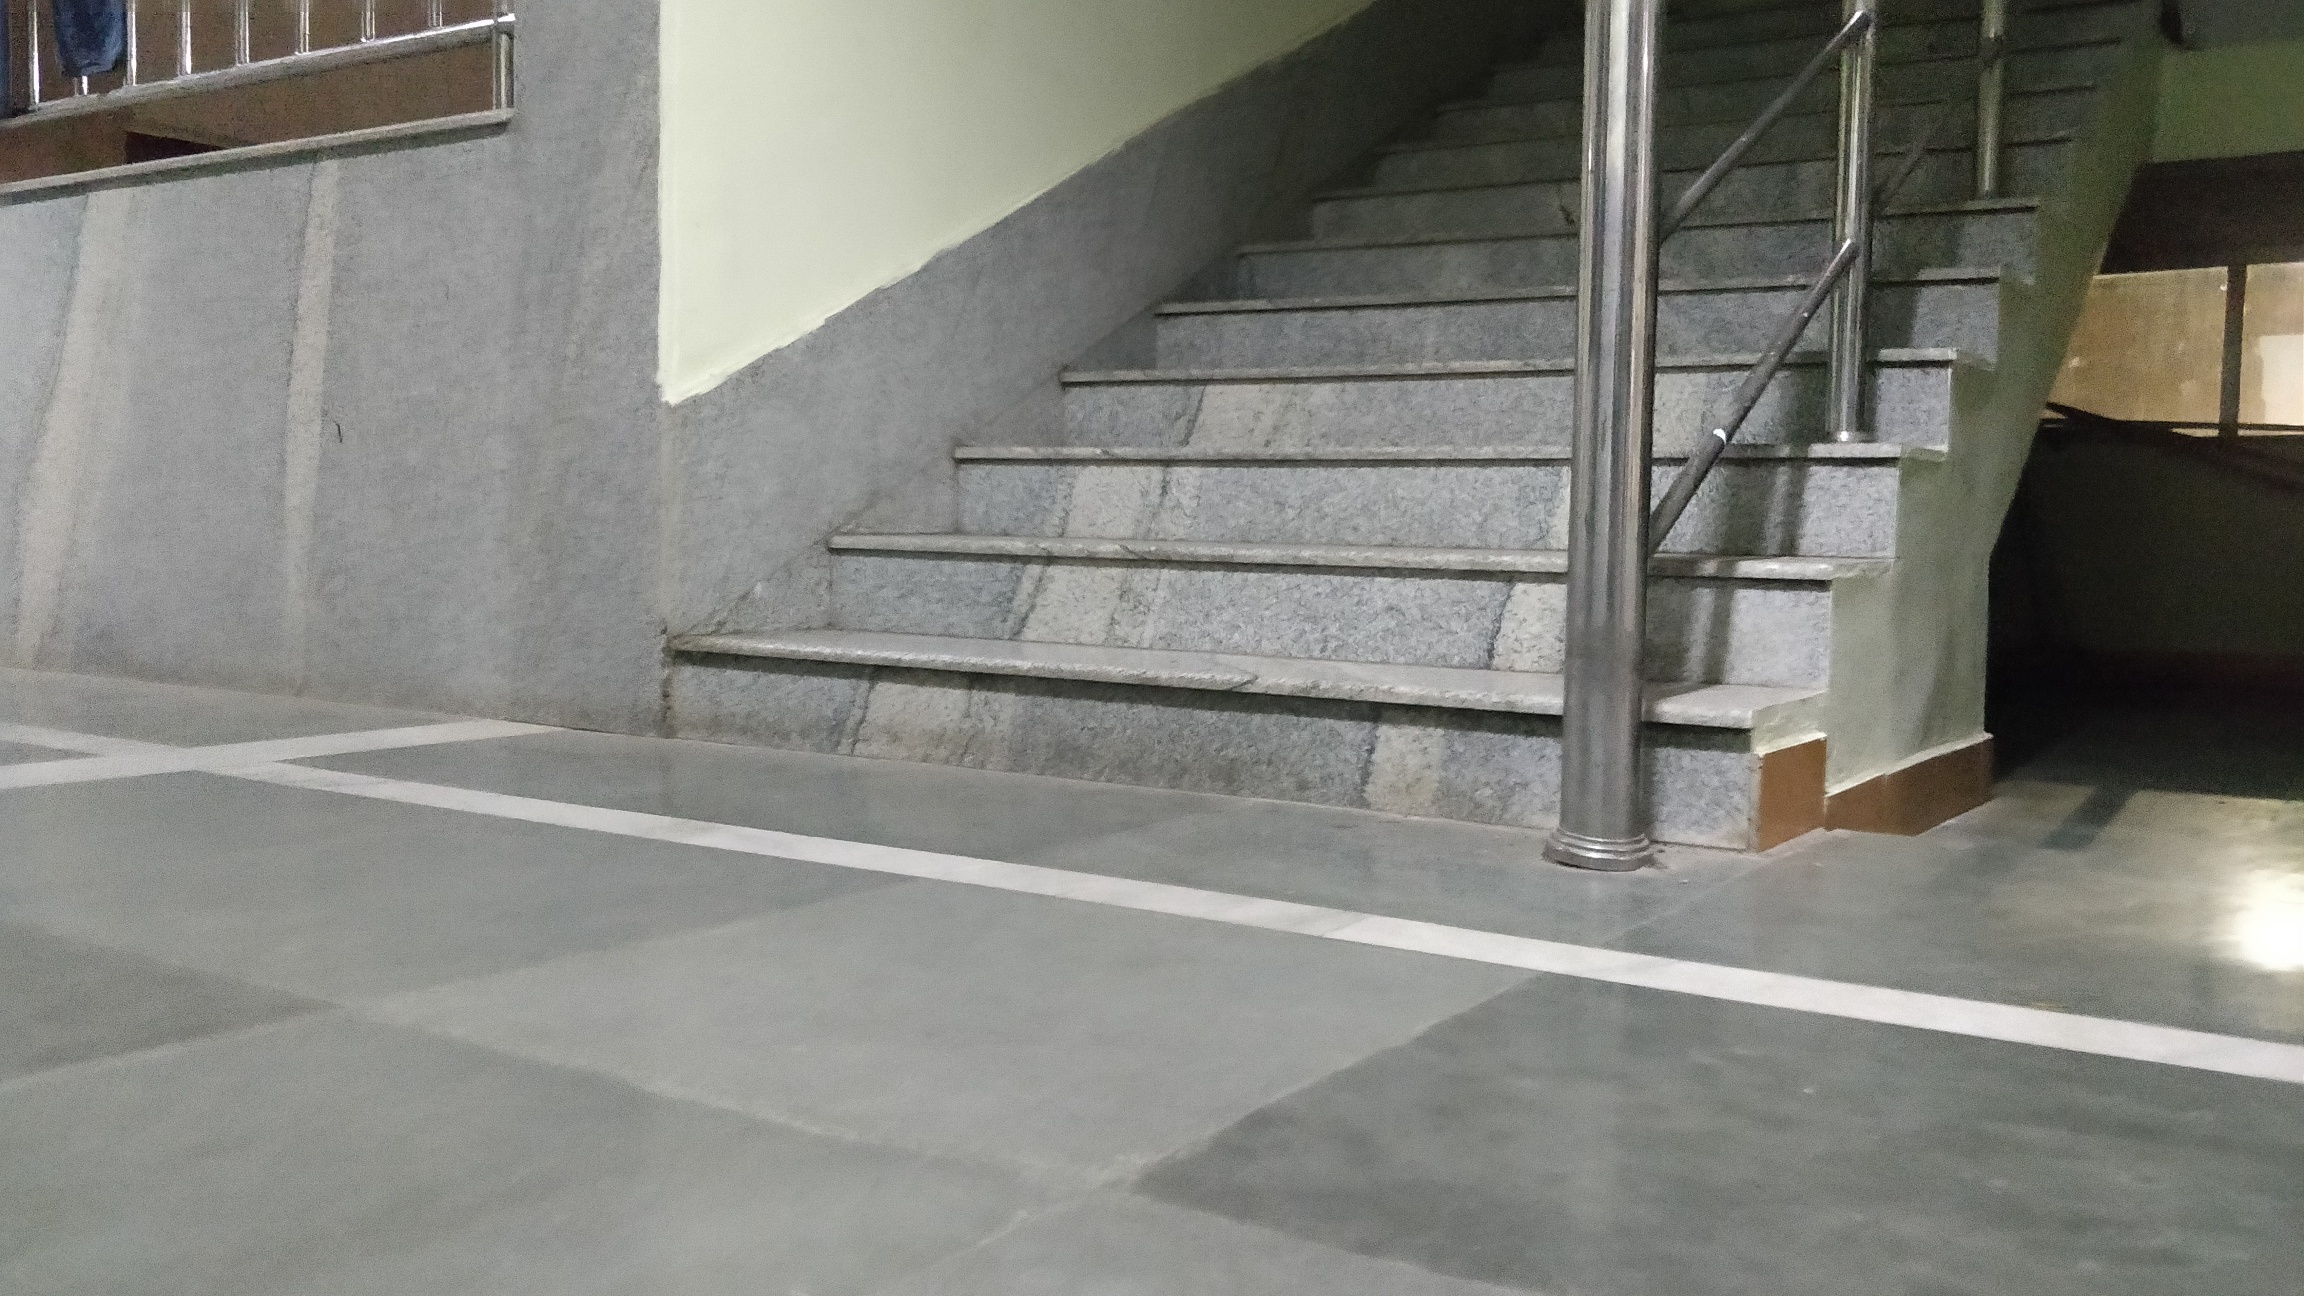stairs_up: (661, 28, 2076, 817)
